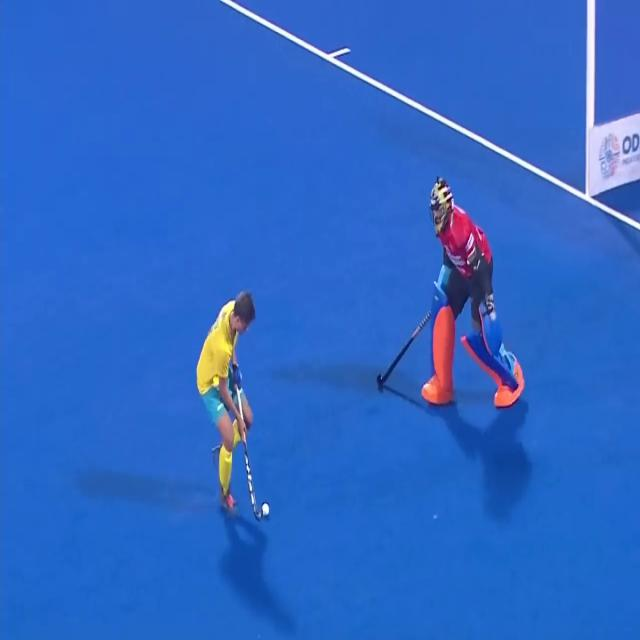ball: (255, 490, 278, 528)
